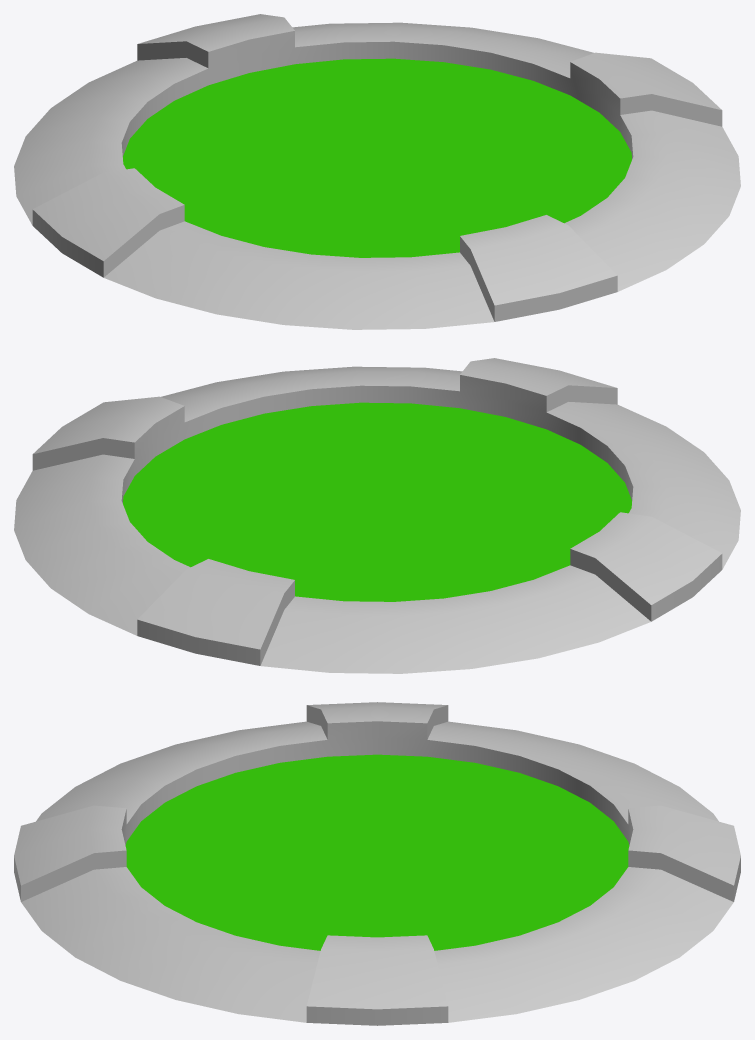
Rendered from teleporter.fbx.
3 views of the same model, one above another, from view 1: azimuth 30°, elevation 25°; view 2: azimuth 150°, elevation 25°; view 3: azimuth 270°, elevation 25° (orthographic).
Visible parts, largest first — view 1: teleporter; view 2: teleporter; view 3: teleporter.
Part boxes in pixels (x1,y1,x2,y2): teleporter: [14, 14, 740, 329]; teleporter: [14, 358, 740, 673]; teleporter: [14, 702, 740, 1025].
Size of the model in its own units: 200 by 13.01 by 200.
